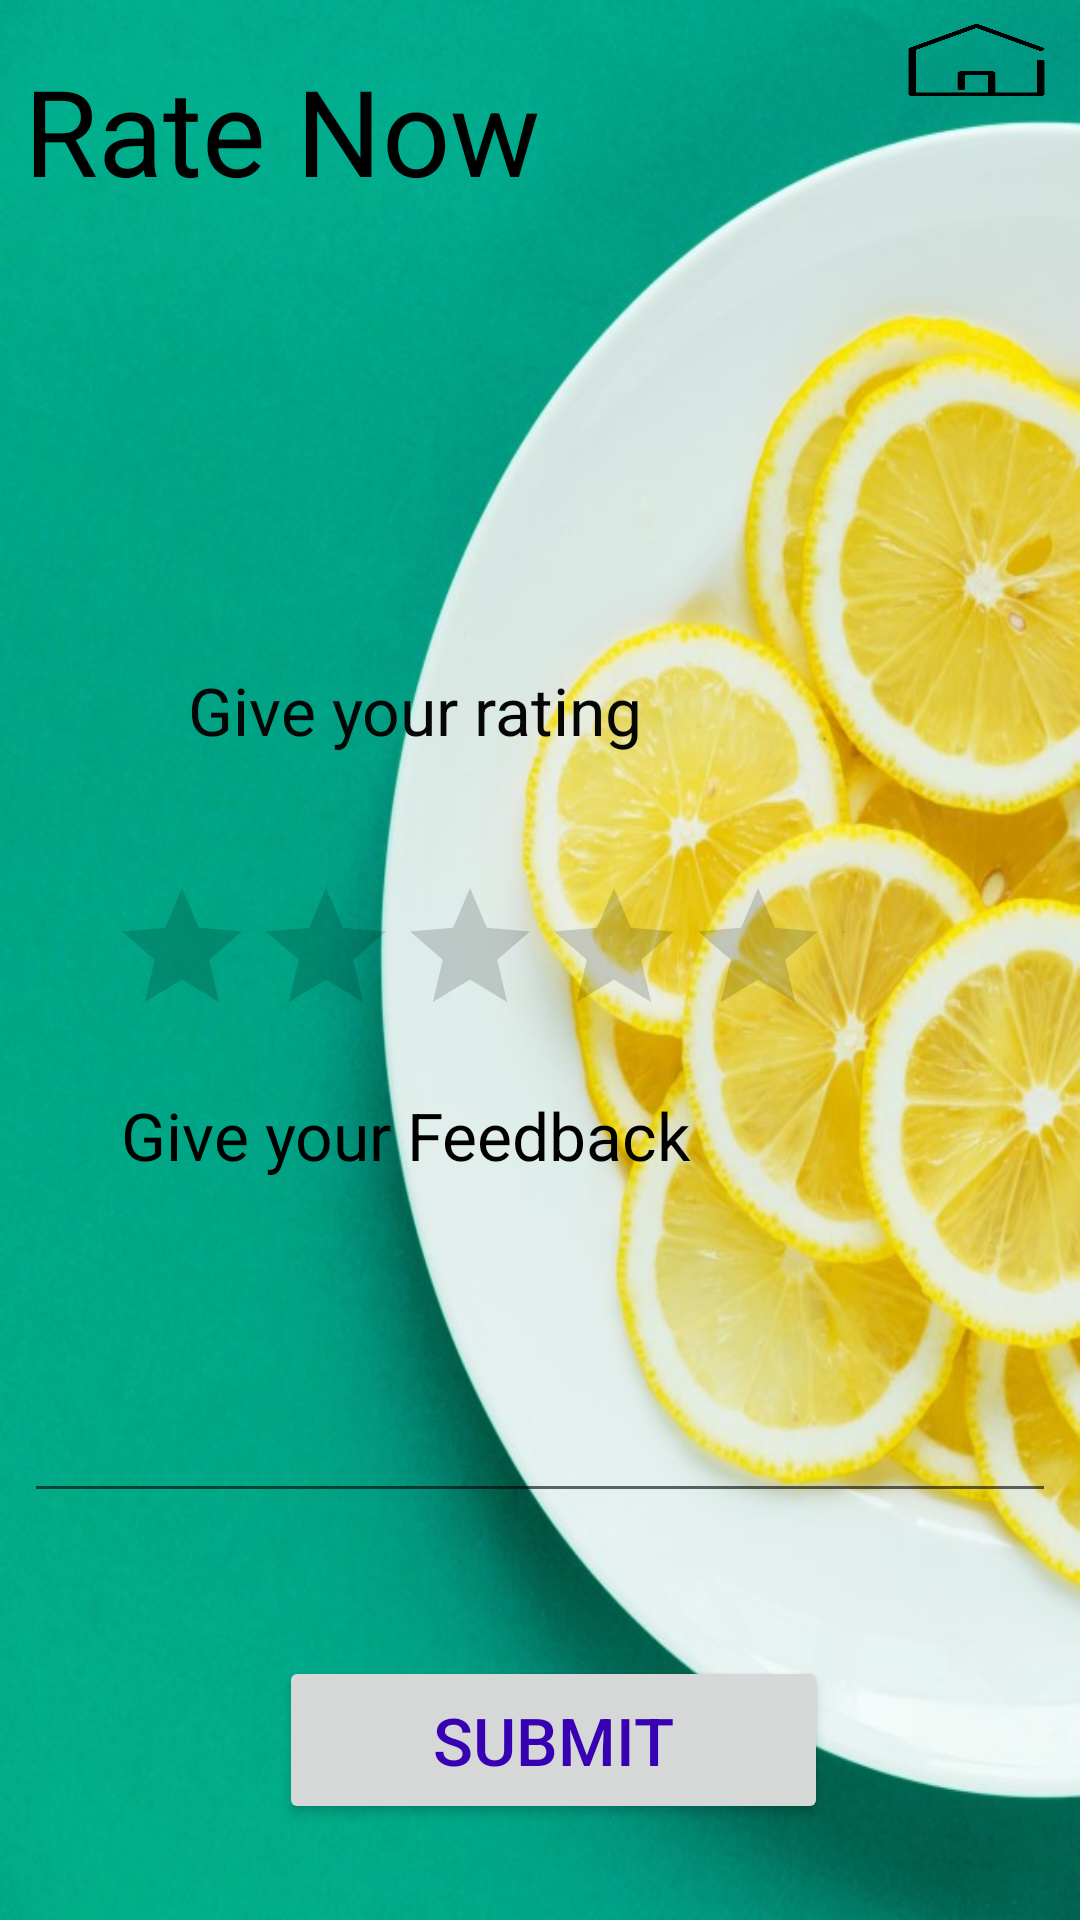

Icon click points for this 1080*1920 phone screenshot, format [x,y]:
home: [976,60]
